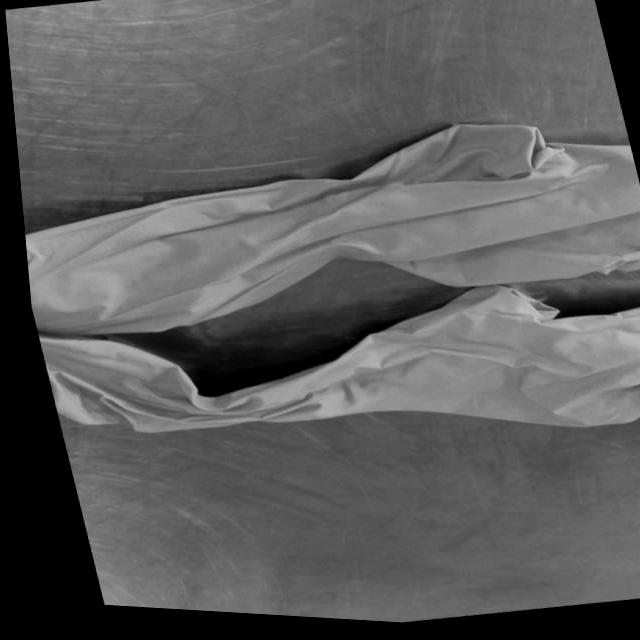General: (1, 0, 640, 630)
Infectious: (25, 121, 640, 433)
